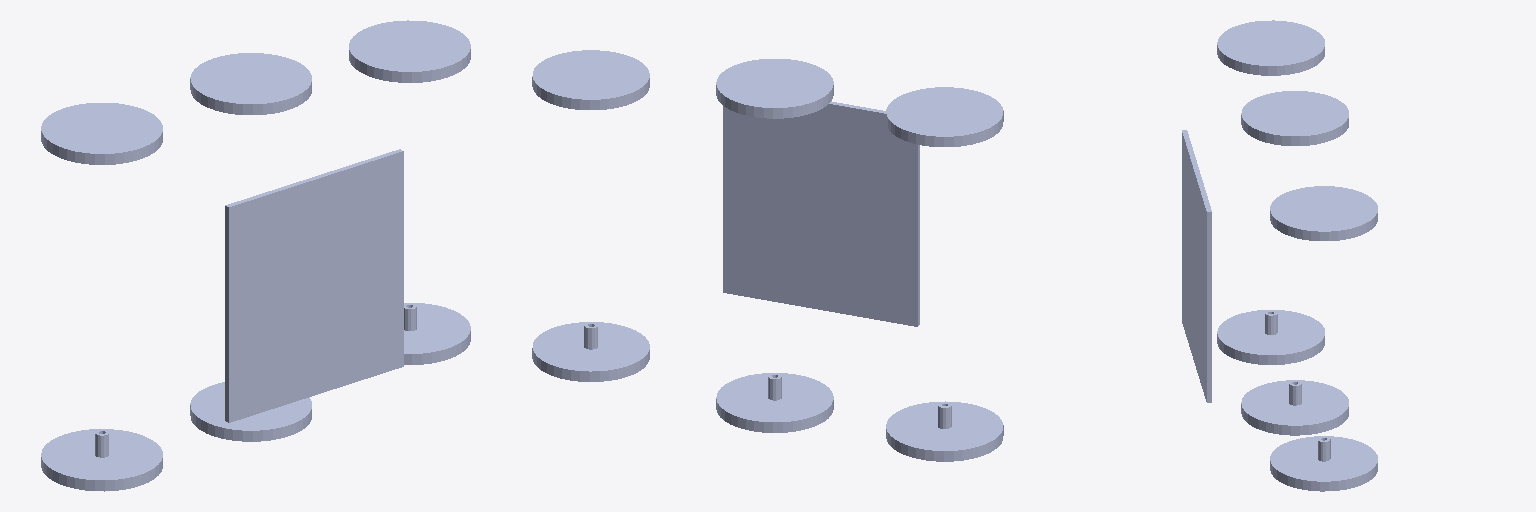
robot.urdf — rocker_bogie:
<?xml version="1.0" encoding="utf-8"?>
<!-- This URDF was automatically created by SolidWorks to URDF Exporter! Originally created by [author] ([email redacted]) 
     Commit Version: 1.6.0-4-g7f85cfe  Build Version: 1.6.7995.38578
     For more information, please see http://wiki.ros.org/sw_urdf_exporter -->
<robot
  name="rocker_bogie">
  <link
    name="base_link">
    <inertial>
      <origin
        xyz="0.000320122793758787 -0.00247941956855149 -2.77555756156289E-17"
        rpy="0 0 0" />
      <mass
        value="0.1755" />
      <inertia
        ixx="0.000564244772773129"
        ixy="-6.01301458686485E-05"
        ixz="-3.38769011079791E-20"
        iyy="0.00102220210222687"
        iyz="1.22526168335649E-20"
        izz="0.000474215624999999" />
    </inertial>
    <visual>
      <origin
        xyz="0 0 0"
        rpy="0 0 0" />
      <geometry>
        <mesh
          filename="package://mrs_proj/meshes/base_link.STL" />
      </geometry>
      <material
        name="">
        <color
          rgba="0.792156862745098 0.819607843137255 0.933333333333333 1" />
      </material>
    </visual>
    <collision>
      <origin
        xyz="0 0 0"
        rpy="0 0 0" />
      <geometry>
        <mesh
          filename="package://mrs_proj/meshes/base_link.STL" />
      </geometry>
    </collision>
  </link>
  <link
    name="l1">
    <inertial>
      <origin
        xyz="-0.160715221966173 0.0662285347496295 -0.147182850430697"
        rpy="0 0 0" />
      <mass
        value="0.0802362763726834" />
      <inertia
        ixx="5.0191150558853E-05"
        ixy="-1.18331514735207E-20"
        ixz="1.49201809347102E-21"
        iyy="5.0191150558853E-05"
        iyz="-1.04239634427448E-20"
        izz="9.82129407754223E-05" />
    </inertial>
    <visual>
      <origin
        xyz="0 0 0"
        rpy="0 0 0" />
      <geometry>
        <mesh
          filename="package://mrs_proj/meshes/l1.STL" />
      </geometry>
      <material
        name="">
        <color
          rgba="0.792156862745098 0.819607843137255 0.933333333333333 1" />
      </material>
    </visual>
    <collision>
      <origin
        xyz="0 0 0"
        rpy="0 0 0" />
      <geometry>
        <mesh
          filename="package://mrs_proj/meshes/l1.STL" />
      </geometry>
    </collision>
  </link>
  <joint
    name="j1"
    type="revolute">
    <origin
      xyz="0 0 0"
      rpy="0 0 0" />
    <parent
      link="base_link" />
    <child
      link="l1" />
    <axis
      xyz="0 0 1" />
    <limit
      lower="0"
      upper="0"
      effort="0"
      velocity="0" />
  </joint>
  <link
    name="l2">
    <inertial>
      <origin
        xyz="-0.0067528483820022 0.0884903298328579 -0.147182850430697"
        rpy="0 0 0" />
      <mass
        value="0.0802362763726834" />
      <inertia
        ixx="5.0191150558853E-05"
        ixy="-9.60328687663745E-21"
        ixz="-1.01866532007632E-21"
        iyy="5.0191150558853E-05"
        iyz="2.85328965455366E-22"
        izz="9.82129407754222E-05" />
    </inertial>
    <visual>
      <origin
        xyz="0 0 0"
        rpy="0 0 0" />
      <geometry>
        <mesh
          filename="package://mrs_proj/meshes/l2.STL" />
      </geometry>
      <material
        name="">
        <color
          rgba="0.792156862745098 0.819607843137255 0.933333333333333 1" />
      </material>
    </visual>
    <collision>
      <origin
        xyz="0 0 0"
        rpy="0 0 0" />
      <geometry>
        <mesh
          filename="package://mrs_proj/meshes/l2.STL" />
      </geometry>
    </collision>
  </link>
  <joint
    name="j2"
    type="revolute">
    <origin
      xyz="0 0 0"
      rpy="0 0 0" />
    <parent
      link="base_link" />
    <child
      link="l2" />
    <axis
      xyz="0 0 1" />
    <limit
      lower="0"
      upper="0"
      effort="0"
      velocity="0" />
  </joint>
  <link
    name="l3">
    <inertial>
      <origin
        xyz="0.158523082401534 0.115063241100188 -0.127182850430697"
        rpy="0 0 0" />
      <mass
        value="0.0802362763726834" />
      <inertia
        ixx="5.0191150558853E-05"
        ixy="2.32986620929689E-21"
        ixz="1.13120915184359E-21"
        iyy="5.0191150558853E-05"
        iyz="2.3214773179741E-21"
        izz="9.82129407754223E-05" />
    </inertial>
    <visual>
      <origin
        xyz="0 0 0"
        rpy="0 0 0" />
      <geometry>
        <mesh
          filename="package://mrs_proj/meshes/l3.STL" />
      </geometry>
      <material
        name="">
        <color
          rgba="0.792156862745098 0.819607843137255 0.933333333333333 1" />
      </material>
    </visual>
    <collision>
      <origin
        xyz="0 0 0"
        rpy="0 0 0" />
      <geometry>
        <mesh
          filename="package://mrs_proj/meshes/l3.STL" />
      </geometry>
    </collision>
  </link>
  <joint
    name="j3"
    type="revolute">
    <origin
      xyz="0 0 0"
      rpy="0 0 0" />
    <parent
      link="base_link" />
    <child
      link="l3" />
    <axis
      xyz="0 0 1" />
    <limit
      lower="0"
      upper="0"
      effort="0"
      velocity="0" />
  </joint>
  <link
    name="l4">
    <inertial>
      <origin
        xyz="-0.160715221966173 0.0662285347496295 0.147182850430696"
        rpy="0 0 0" />
      <mass
        value="0.0802362763726834" />
      <inertia
        ixx="5.0191150558853E-05"
        ixy="-7.63293188695524E-21"
        ixz="-1.22081839803496E-21"
        iyy="5.0191150558853E-05"
        iyz="5.35508754324322E-21"
        izz="9.82129407754223E-05" />
    </inertial>
    <visual>
      <origin
        xyz="0 0 0"
        rpy="0 0 0" />
      <geometry>
        <mesh
          filename="package://mrs_proj/meshes/l4.STL" />
      </geometry>
      <material
        name="">
        <color
          rgba="0.792156862745098 0.819607843137255 0.933333333333333 1" />
      </material>
    </visual>
    <collision>
      <origin
        xyz="0 0 0"
        rpy="0 0 0" />
      <geometry>
        <mesh
          filename="package://mrs_proj/meshes/l4.STL" />
      </geometry>
    </collision>
  </link>
  <joint
    name="j4"
    type="revolute">
    <origin
      xyz="0 0 0"
      rpy="0 0 0" />
    <parent
      link="base_link" />
    <child
      link="l4" />
    <axis
      xyz="0 0 -1" />
    <limit
      lower="0"
      upper="0"
      effort="0"
      velocity="0" />
  </joint>
  <link
    name="l5">
    <inertial>
      <origin
        xyz="-0.00675284838200221 0.0884903298328579 0.147182850430697"
        rpy="0 0 0" />
      <mass
        value="0.0802362763726834" />
      <inertia
        ixx="5.0191150558853E-05"
        ixy="-7.25508483042897E-21"
        ixz="-3.80769766694592E-21"
        iyy="5.0191150558853E-05"
        iyz="3.01096029864918E-22"
        izz="9.82129407754222E-05" />
    </inertial>
    <visual>
      <origin
        xyz="0 0 0"
        rpy="0 0 0" />
      <geometry>
        <mesh
          filename="package://mrs_proj/meshes/l5.STL" />
      </geometry>
      <material
        name="">
        <color
          rgba="0.792156862745098 0.819607843137255 0.933333333333333 1" />
      </material>
    </visual>
    <collision>
      <origin
        xyz="0 0 0"
        rpy="0 0 0" />
      <geometry>
        <mesh
          filename="package://mrs_proj/meshes/l5.STL" />
      </geometry>
    </collision>
  </link>
  <joint
    name="j5"
    type="revolute">
    <origin
      xyz="0 0 0"
      rpy="0 0 0" />
    <parent
      link="base_link" />
    <child
      link="l5" />
    <axis
      xyz="0 0 -1" />
    <limit
      lower="0"
      upper="0"
      effort="0"
      velocity="0" />
  </joint>
  <link
    name="l6">
    <inertial>
      <origin
        xyz="0.158523082401534 0.115063241100188 0.127182850430697"
        rpy="0 0 0" />
      <mass
        value="0.0802362763726834" />
      <inertia
        ixx="5.0191150558853E-05"
        ixy="-3.89867563331477E-22"
        ixz="1.06727144411898E-21"
        iyy="5.0191150558853E-05"
        iyz="1.82186791676577E-22"
        izz="9.82129407754222E-05" />
    </inertial>
    <visual>
      <origin
        xyz="0 0 0"
        rpy="0 0 0" />
      <geometry>
        <mesh
          filename="package://mrs_proj/meshes/l6.STL" />
      </geometry>
      <material
        name="">
        <color
          rgba="0.792156862745098 0.819607843137255 0.933333333333333 1" />
      </material>
    </visual>
    <collision>
      <origin
        xyz="0 0 0"
        rpy="0 0 0" />
      <geometry>
        <mesh
          filename="package://mrs_proj/meshes/l6.STL" />
      </geometry>
    </collision>
  </link>
  <joint
    name="j6"
    type="revolute">
    <origin
      xyz="0 0 0"
      rpy="0 0 0" />
    <parent
      link="base_link" />
    <child
      link="l6" />
    <axis
      xyz="0 0 -1" />
    <limit
      lower="0"
      upper="0"
      effort="0"
      velocity="0" />
  </joint>
</robot>

--- Render facts (derived) ---
The picture shows the robot from 3 angles, left to right: view 1: azimuth 30°, elevation 25°; view 2: azimuth 150°, elevation 25°; view 3: azimuth 270°, elevation 25°; orthographic projection.
Robot: rocker_bogie — 7 links, 6 joints (6 revolute); root link base_link; default pose: every joint at zero.
Links seen in each view (by area): view 1: base_link, l6, l1, l4, l5, l2, l3; view 2: base_link, l5, l1, l4, l6, l3, l2; view 3: base_link, l3, l5, l1, l2, l6, l4.
Boxes of the visible links, x1,y1,x2,y2 form: base_link: (225, 149, 403, 422); l6: (349, 20, 470, 82); l1: (41, 429, 162, 491); l4: (41, 103, 162, 164); l5: (190, 53, 311, 114); l2: (190, 382, 311, 441); l3: (404, 303, 470, 364); base_link: (723, 101, 919, 326); l5: (716, 59, 833, 118); l1: (886, 401, 1003, 461); l4: (886, 87, 1003, 146); l6: (532, 50, 649, 109); l3: (532, 322, 649, 381); l2: (716, 373, 833, 432); base_link: (1182, 130, 1211, 402); l3: (1270, 436, 1377, 491); l5: (1241, 91, 1348, 145); l1: (1217, 310, 1324, 364); l2: (1241, 380, 1348, 435); l6: (1270, 186, 1377, 240); l4: (1217, 20, 1324, 75).
Size in the robot's own frame: 0.419 by 0.1815 by 0.305 metres.
7 mesh visuals loaded from 7 distinct referenced files (7 binary STL).
